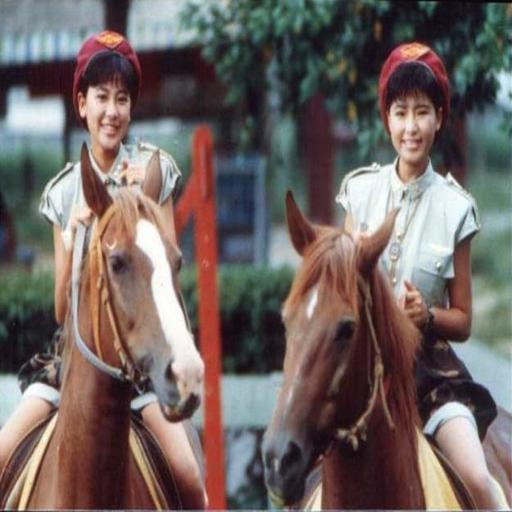horse: (258, 182, 512, 511), (0, 136, 208, 511)
